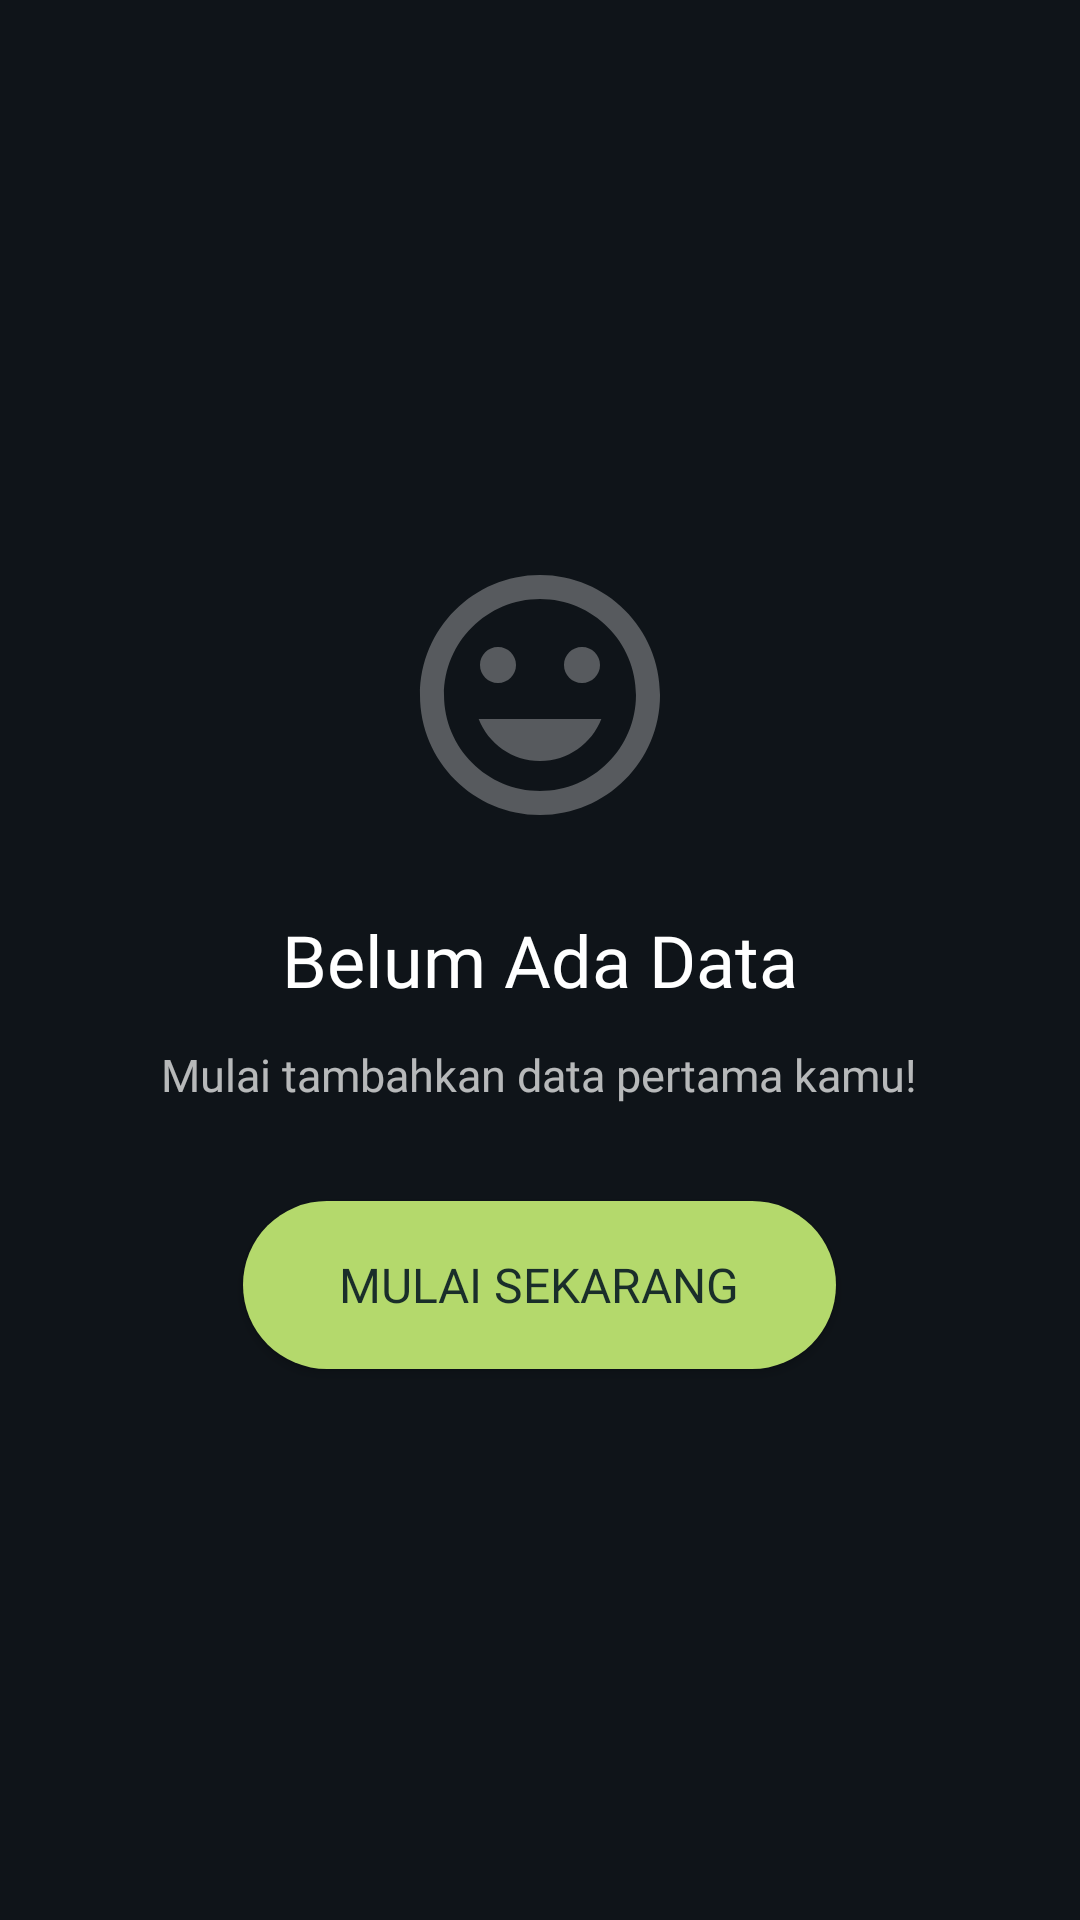

Locate icon controls on the screen. Image size 1080x1920, boxes as box=[x1, y1, x2, y2].
mood: box=[420, 575, 660, 815]
